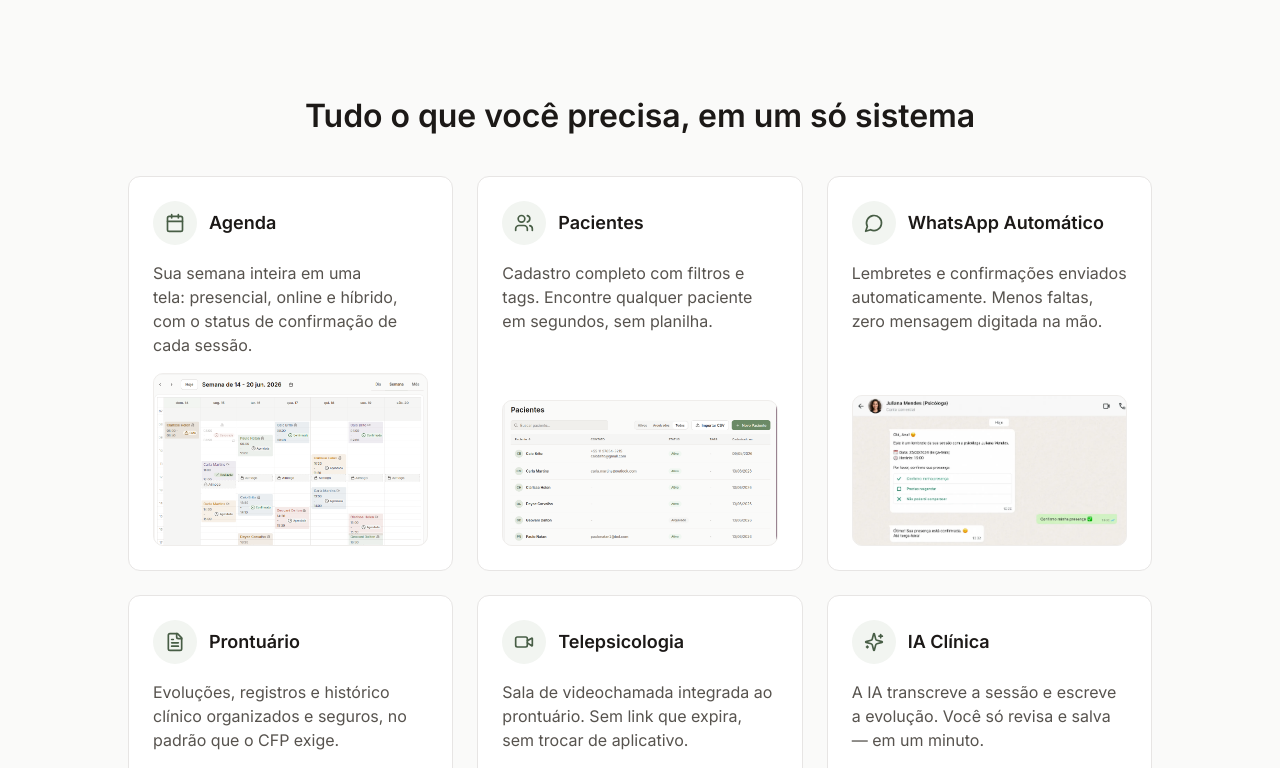
Test case: Funcionalidades — lightbox open / close › opens the lightbox showing the clicked screenshot
Click the button named "Ampliar captura de tela: Agenda" at point(291, 459), box [153,373,428,546]
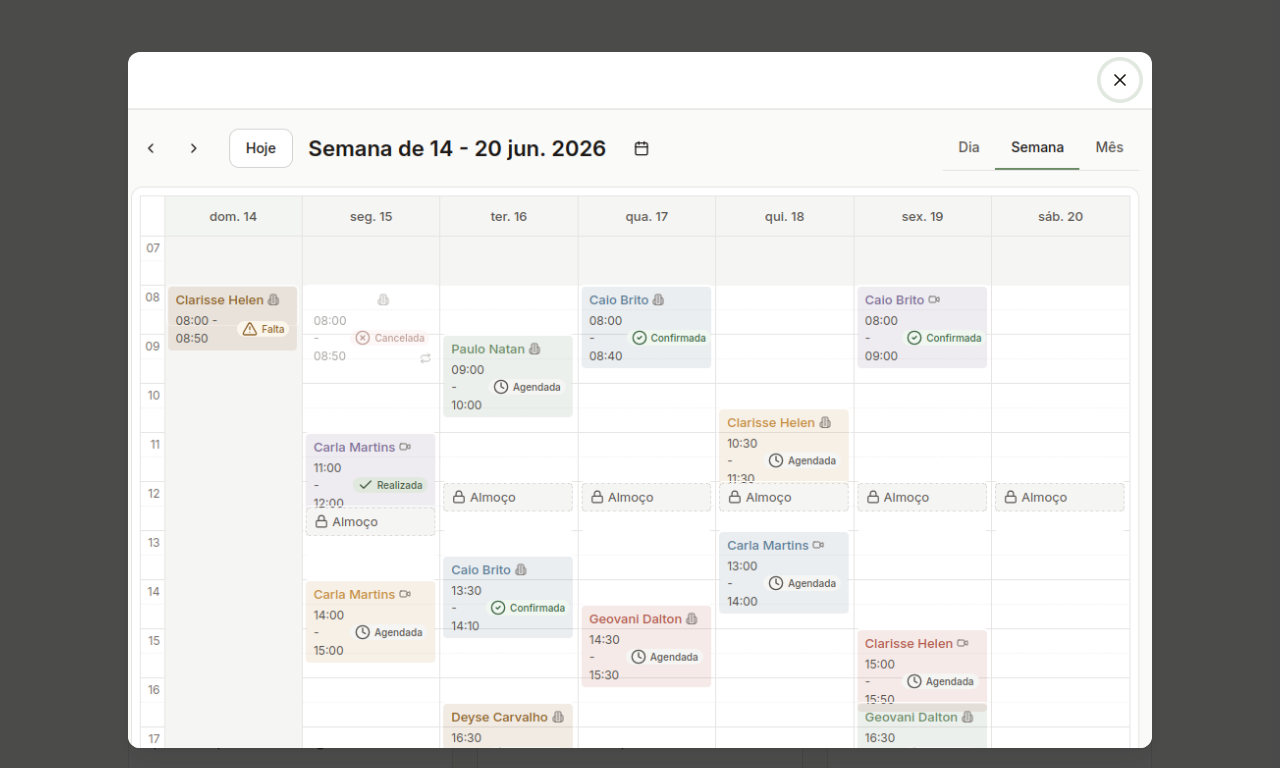
Check: the picture with alt text "Agenda semanal do Hubrity com sessões e seus status de confirmação." is shown
